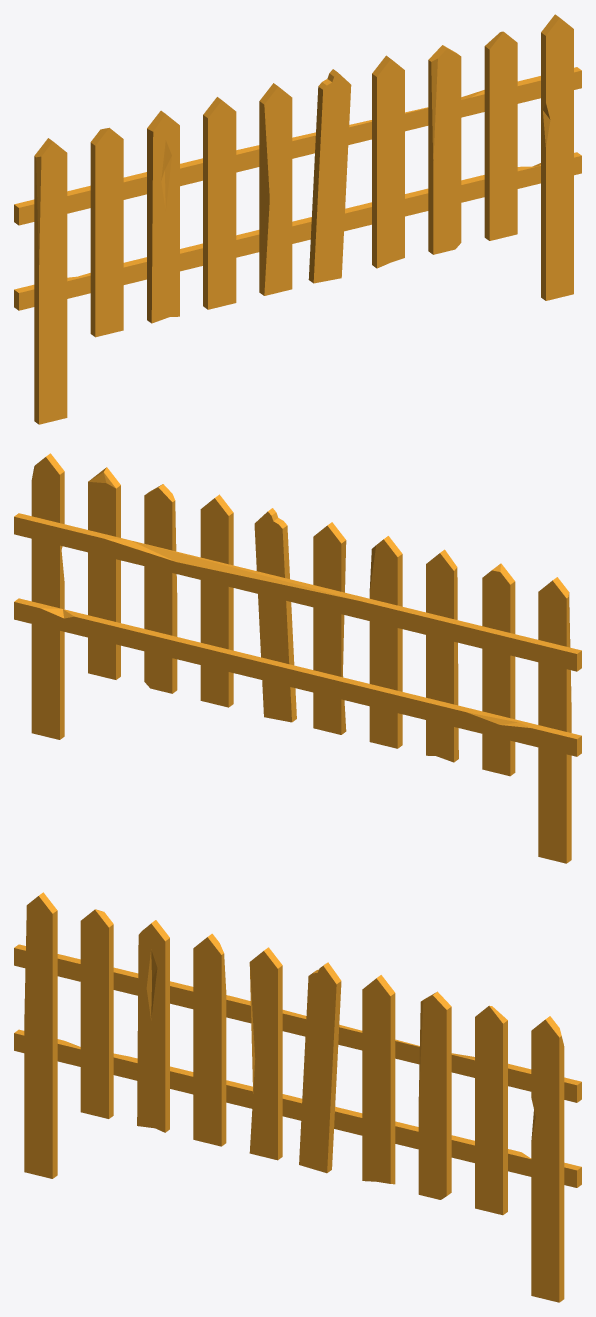
The model's file is SM_Fence_Picket_2m.fbx.
3 renders of one model, top to bottom at view 1: azimuth 30°, elevation 25°; view 2: azimuth 150°, elevation 25°; view 3: azimuth 330°, elevation 25°, orthographic.
Parts seen in each view (by area): view 1: fence-picket-2m; view 2: fence-picket-2m; view 3: fence-picket-2m.
Part boxes in pixels (x1,y1,x2,y2): fence-picket-2m: (14,14,581,424); fence-picket-2m: (14,453,581,863); fence-picket-2m: (14,892,581,1302).
Size of the model in its own units: 2 by 0.9499 by 0.06.
